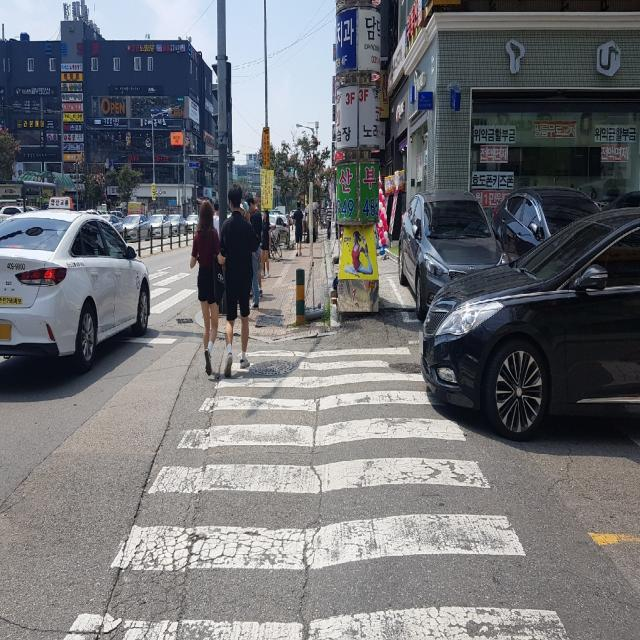횡단보도: (62, 343, 566, 636)
